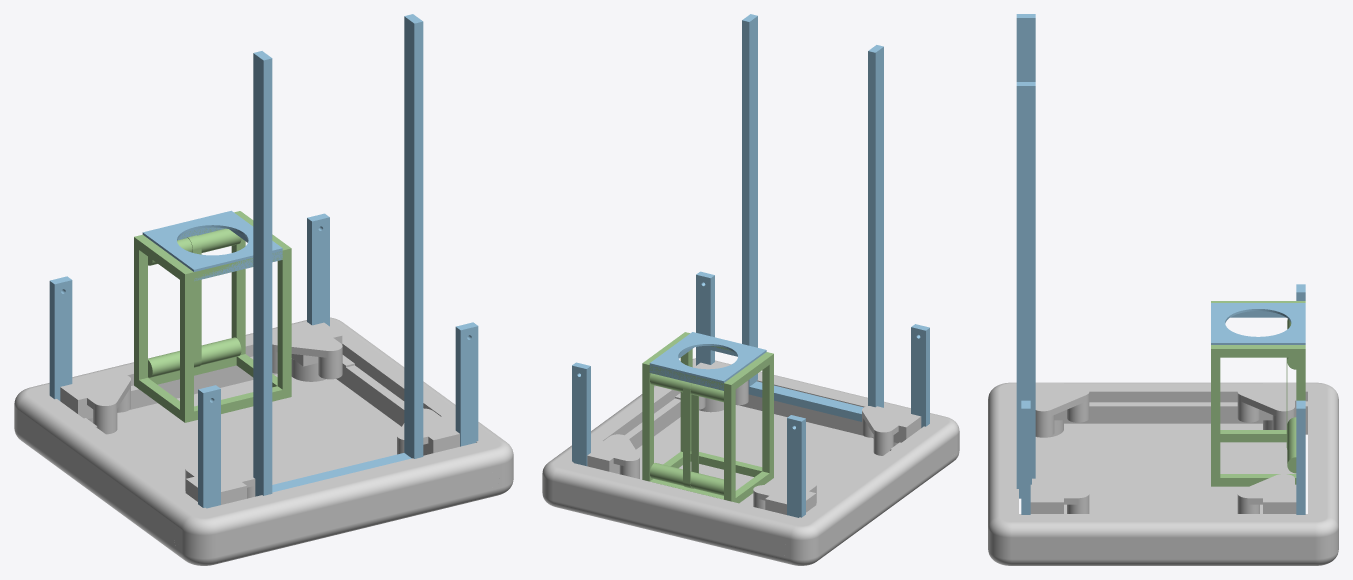
The picture shows the model from 3 angles, left to right: view 1: azimuth 30°, elevation 25°; view 2: azimuth 150°, elevation 25°; view 3: azimuth 270°, elevation 25°; orthographic projection. The views are drawn at different scales.
Parts seen in each view (by area): view 1: id27, Part 1 (×4), Configurable Ball Tunnel, Part 2 (×2); view 2: id27, Part 1 (×4), Configurable Ball Tunnel, Part 2 (×2); view 3: id27, Part 1 (×3), Configurable Ball Tunnel, Part 2.
Part boxes in pixels (bbox=[...]): id27: bbox=[14, 317, 513, 565]; Part 1 (×4): bbox=[49, 14, 478, 496]; Configurable Ball Tunnel: bbox=[134, 211, 291, 422]; Part 2 (×2): bbox=[198, 213, 329, 508]; id27: bbox=[542, 358, 959, 565]; Part 1 (×4): bbox=[649, 14, 883, 517]; Configurable Ball Tunnel: bbox=[642, 332, 773, 503]; Part 2 (×2): bbox=[572, 324, 929, 466]; id27: bbox=[988, 382, 1338, 565]; Part 1 (×3): bbox=[1016, 14, 1305, 514]; Configurable Ball Tunnel: bbox=[1211, 301, 1305, 486]; Part 2: bbox=[1296, 400, 1305, 514].
Size of the model in its own units: 0.9398 by 1.32 by 0.9398.
